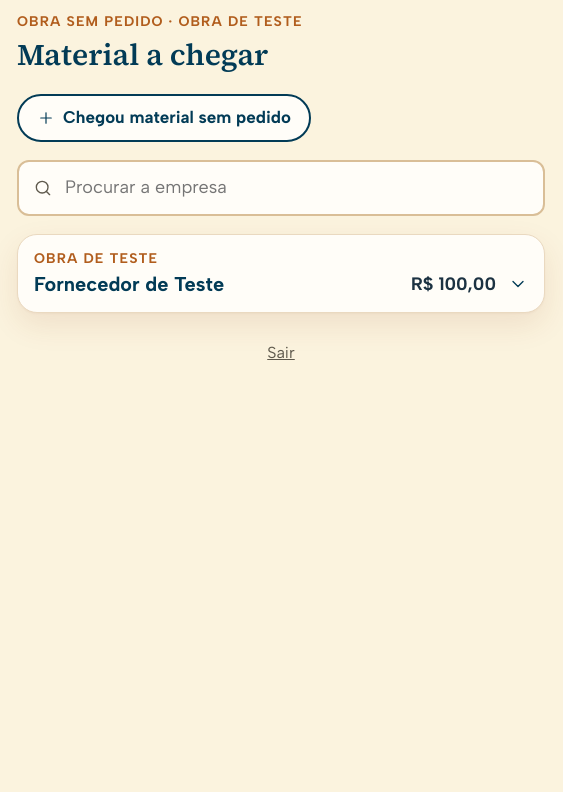
Test: a tela do mestre, ligada ao banco › a obra sem pedido a caminho aparece com o nome no "Em qual obra?" (Banco-D710)
Step 1. Click the button "Chegou material sem pedido" → (164, 118), box [17, 94, 311, 142]
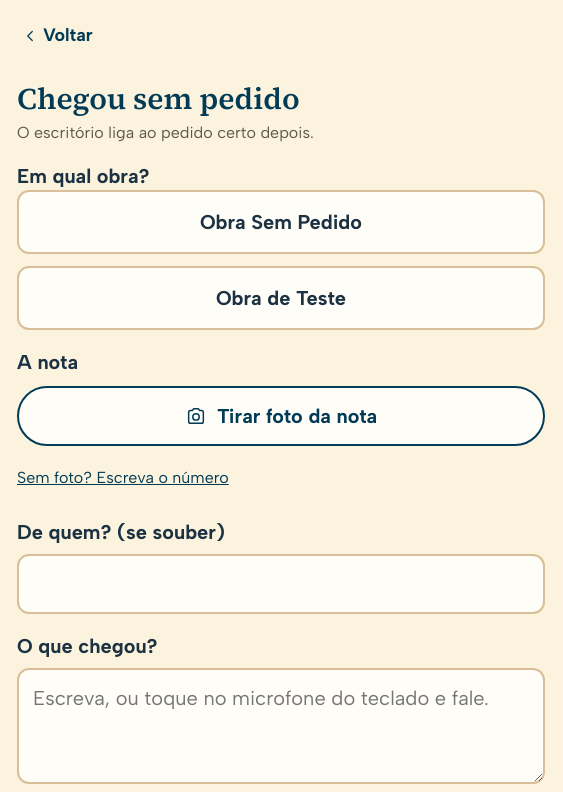
Expected: the buttons read "Obra Sem Pedido", "Obra de Teste", in this order, [17, 190, 545, 254]; [17, 266, 545, 330]
